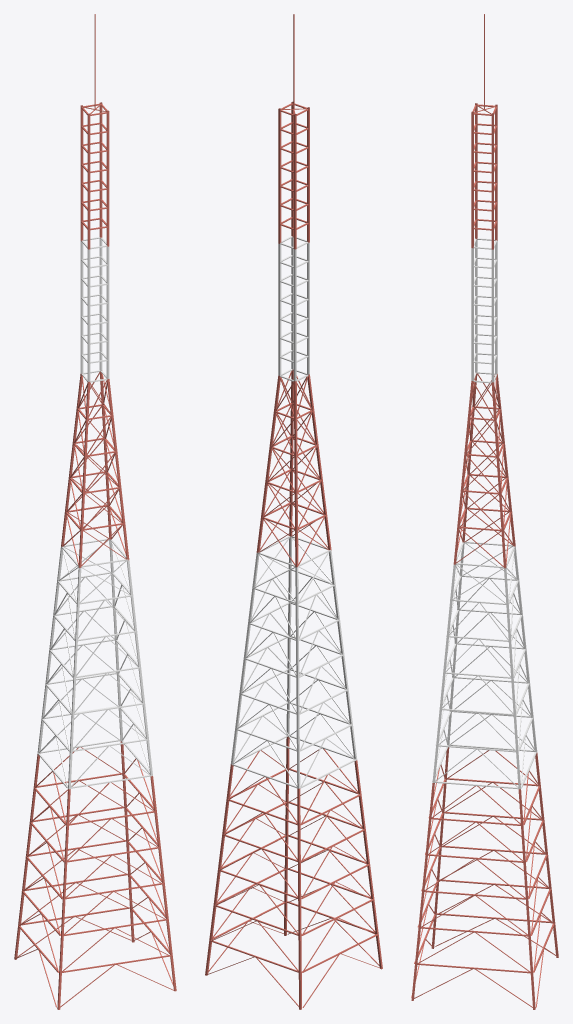
Rendered from Red and white Towers.fbx.
3 views of the same model, side by side, from view 1: azimuth 30°, elevation 25°; view 2: azimuth 150°, elevation 25°; view 3: azimuth 270°, elevation 25° (orthographic).
Parts seen in each view (by area): view 1: _3_-_Default_LightningB31SZ2-material; view 2: _3_-_Default_LightningB31SZ2-material; view 3: _3_-_Default_LightningB31SZ2-material.
Part boxes in pixels (box(x1,y1,x2,y2)): _3_-_Default_LightningB31SZ2-material: box(14, 14, 176, 1009); _3_-_Default_LightningB31SZ2-material: box(205, 14, 382, 1009); _3_-_Default_LightningB31SZ2-material: box(411, 14, 558, 1009).
Size of the model in its own units: 1351 by 9741 by 1352.
